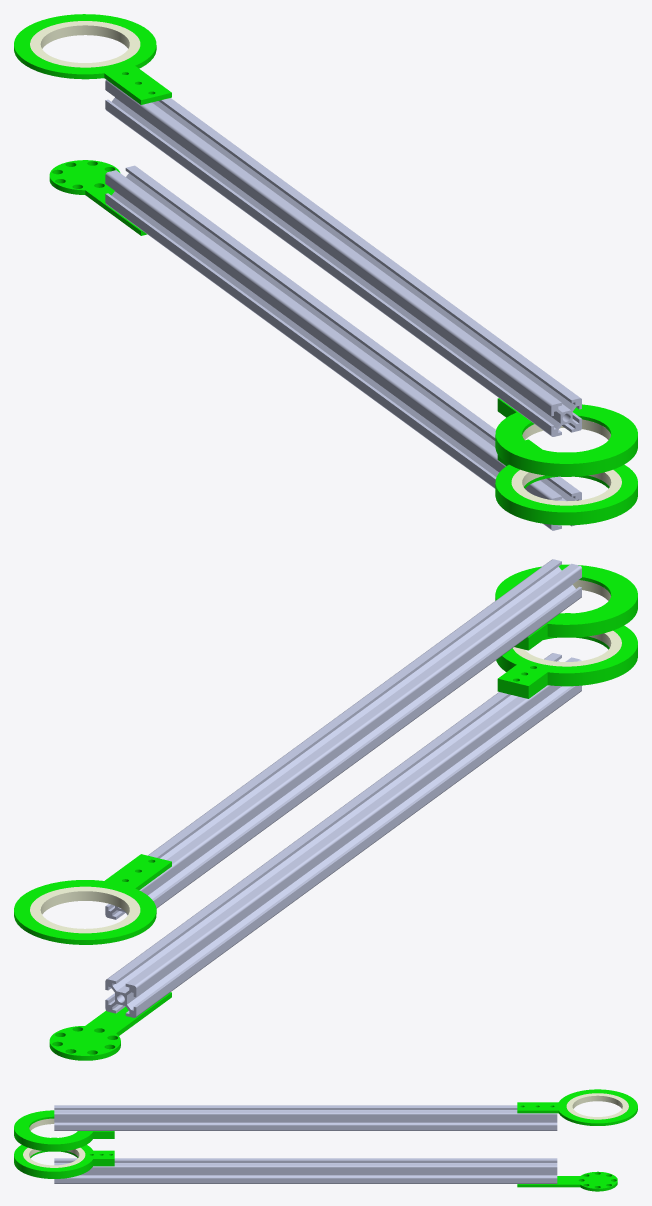
The picture shows the model from 3 angles, top to bottom: view 1: azimuth 30°, elevation 25°; view 2: azimuth 150°, elevation 25°; view 3: azimuth 270°, elevation 25°; orthographic projection. The views are drawn at different scales.
Visible parts, largest first — view 1: perfil-2, perfil-1, soporte_rodamiento-1, plaquita_L2_pasiva-1, soporte_rodamiento-2, rodamiento_50_62_6-1, plaquita-1, rodamiento_50_62_6-3; view 2: perfil-1, perfil-2, plaquita_L2_pasiva-1, soporte_rodamiento-1, soporte_rodamiento-2, plaquita-1, rodamiento_50_62_6-1, rodamiento_50_62_6-3; view 3: perfil-2, perfil-1, soporte_rodamiento-1, soporte_rodamiento-2, plaquita_L2_pasiva-1, plaquita-1, rodamiento_50_62_6-1, rodamiento_50_62_6-3.
Boxes of the visible parts, x1,y1,x2,y2 form: perfil-2: [105, 79, 581, 436]; perfil-1: [105, 165, 581, 530]; soporte_rodamiento-1: [495, 398, 637, 476]; plaquita_L2_pasiva-1: [14, 14, 171, 104]; soporte_rodamiento-2: [495, 439, 637, 525]; rodamiento_50_62_6-1: [30, 21, 140, 67]; plaquita-1: [49, 160, 146, 235]; rodamiento_50_62_6-3: [511, 469, 621, 505]; perfil-1: [105, 653, 581, 1017]; perfil-2: [105, 559, 581, 919]; plaquita_L2_pasiva-1: [14, 854, 171, 944]; soporte_rodamiento-1: [495, 564, 637, 650]; soporte_rodamiento-2: [496, 613, 637, 698]; plaquita-1: [49, 992, 171, 1060]; rodamiento_50_62_6-1: [30, 886, 140, 933]; rodamiento_50_62_6-3: [513, 630, 621, 666]; perfil-2: [54, 1105, 557, 1130]; perfil-1: [54, 1158, 557, 1183]; soporte_rodamiento-1: [14, 1110, 114, 1151]; soporte_rodamiento-2: [14, 1137, 114, 1178]; plaquita_L2_pasiva-1: [517, 1089, 637, 1125]; plaquita-1: [517, 1171, 617, 1191]; rodamiento_50_62_6-1: [566, 1093, 628, 1119]; rodamiento_50_62_6-3: [23, 1147, 85, 1167].
Bounding box in the file's own units: 0.08 × 0.084 × 0.62.
